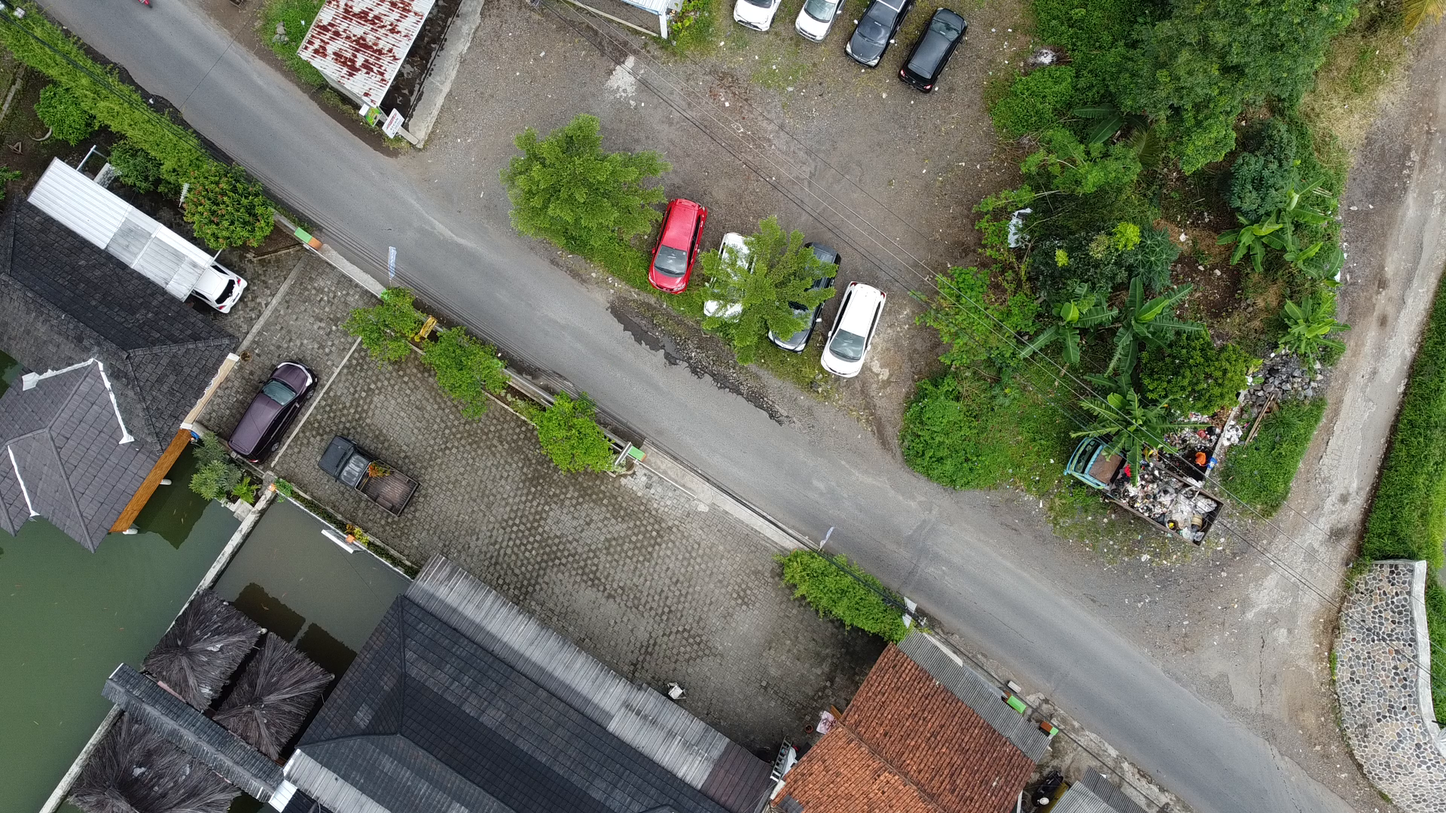mobil: (771, 226, 850, 358), (309, 431, 429, 515), (230, 349, 318, 456), (900, 5, 978, 114), (814, 280, 886, 391), (643, 190, 708, 305), (708, 230, 766, 352), (170, 238, 253, 318), (838, 3, 905, 81)
